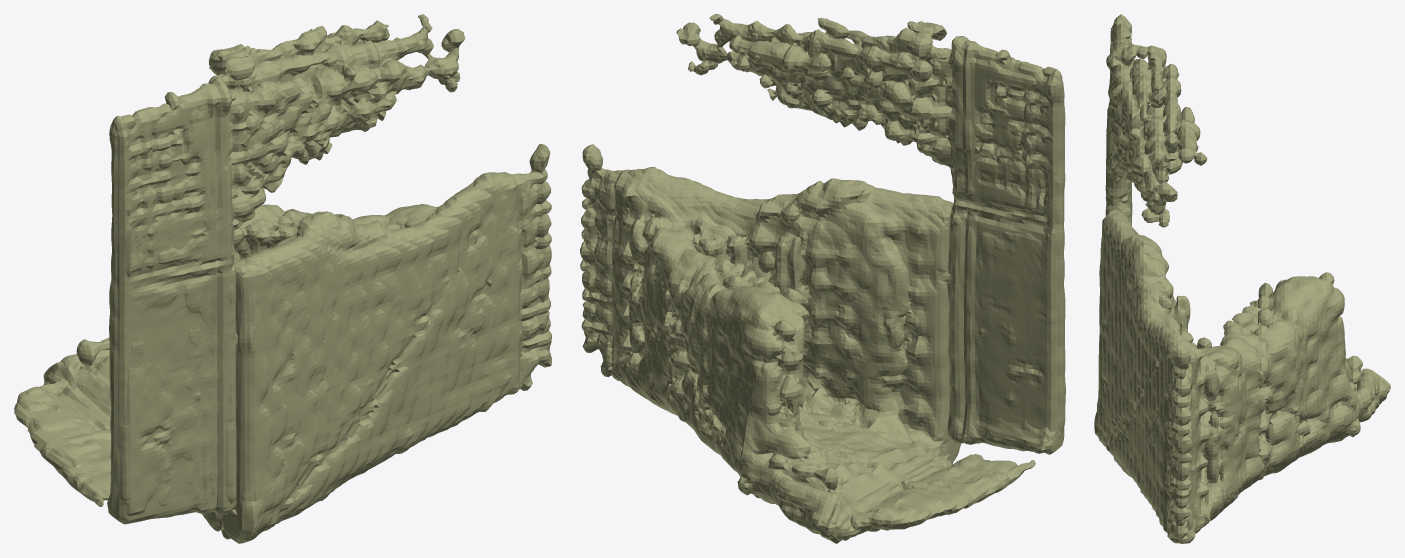
The model's file is raw.glb.
3 renders of one model, left to right at view 1: azimuth 30°, elevation 25°; view 2: azimuth 150°, elevation 25°; view 3: azimuth 270°, elevation 25°, orthographic. The views are drawn at different scales.
Visible parts, largest first — view 1: world; view 2: world; view 3: world.
Boxes of the visible parts, box(x1,y1,x2,y2) form: world: box(14, 14, 551, 543); world: box(580, 14, 1065, 543); world: box(1094, 14, 1390, 543).
Size of the model in its own units: 1.2 by 1.18 by 0.7606.
